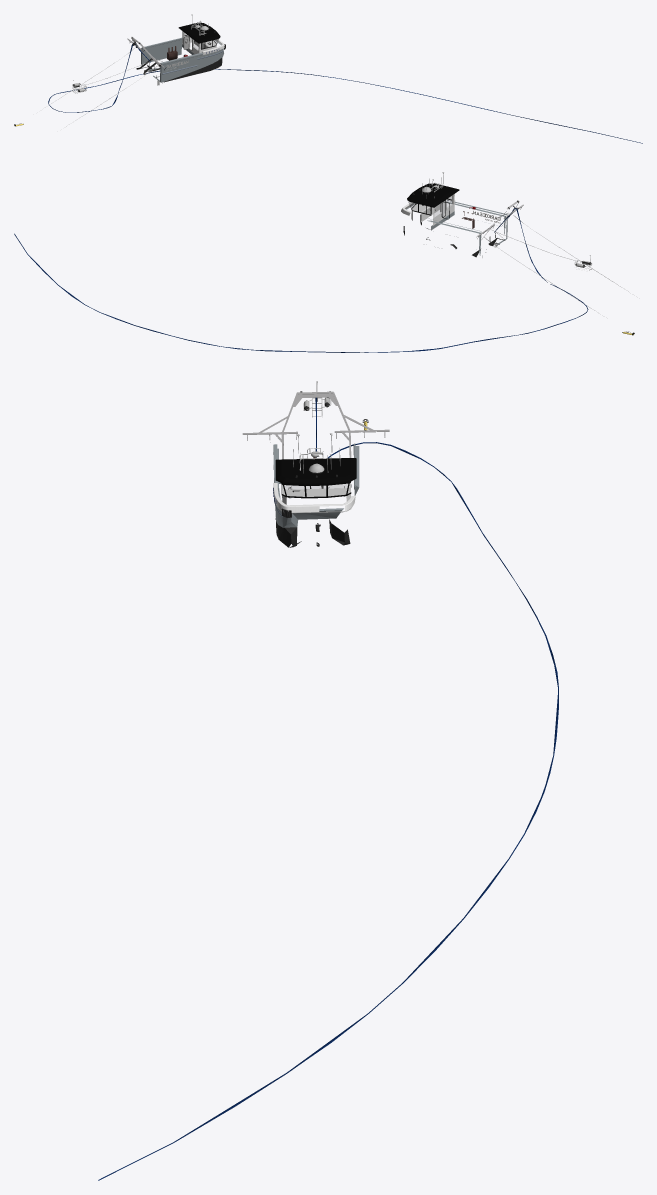
File: boat_dark_ocean.glb
The picture shows the model from 3 angles, top to bottom: view 1: azimuth 30°, elevation 25°; view 2: azimuth 150°, elevation 25°; view 3: azimuth 270°, elevation 25°; orthographic projection. The views are drawn at different scales.
Parts seen in each view (by area): view 1: SM_boatv1; view 2: SM_boatv1; view 3: SM_boatv1.
Part boxes in pixels (x1,y1,x2,y2): SM_boatv1: (14,14,642,143); SM_boatv1: (14,172,634,352); SM_boatv1: (98,381,558,1180).
Bounding box in the file's own units: 847 × 263 × 301.
Materials: 16 (8 with a texture image).
